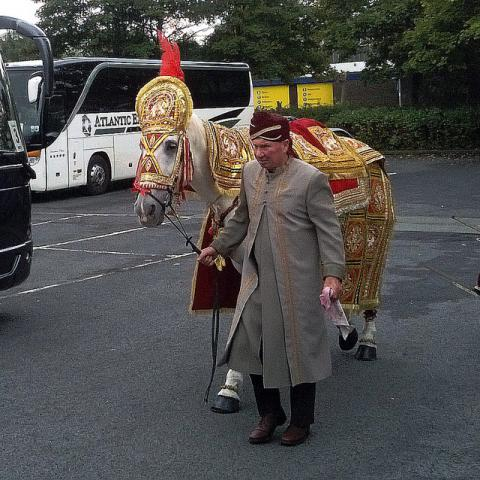bus: (25, 59, 253, 196), (0, 9, 56, 291)
